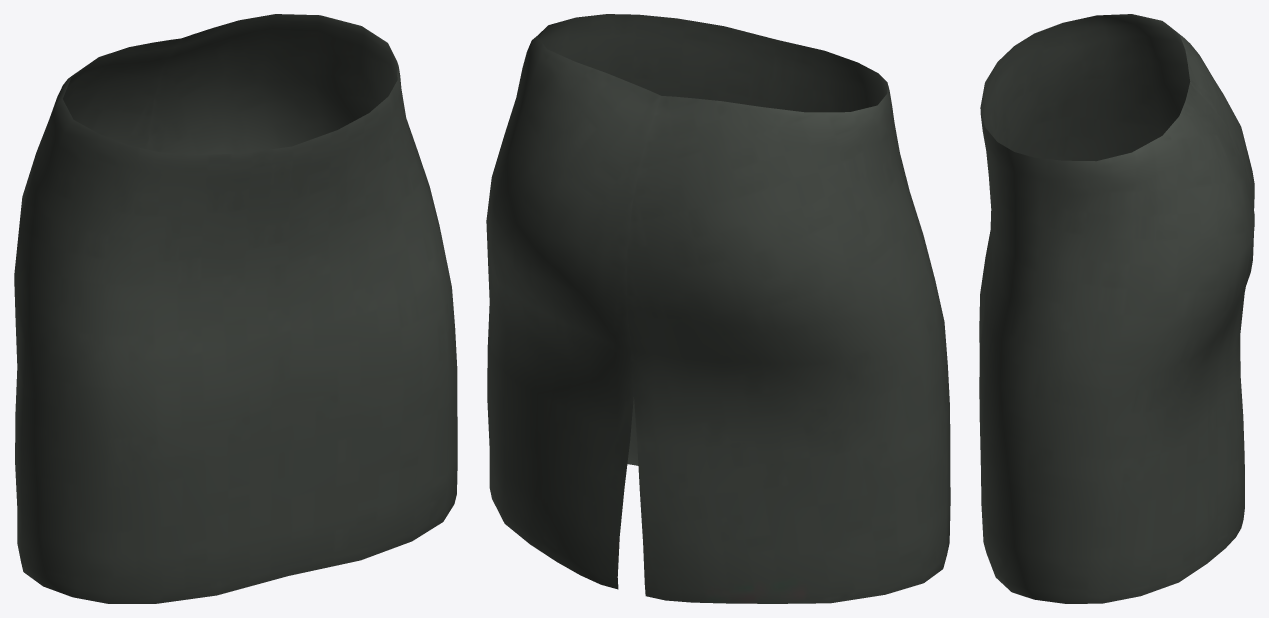
The model's file is skirt.glb.
The picture shows the model from 3 angles, left to right: view 1: azimuth 30°, elevation 25°; view 2: azimuth 150°, elevation 25°; view 3: azimuth 270°, elevation 25°; orthographic projection. The views are drawn at different scales.
Parts seen in each view (by area): view 1: skirt; view 2: skirt; view 3: skirt.
Boxes of the visible parts, x1,y1,x2,y2 form: skirt: (14,14,457,603); skirt: (486,14,950,603); skirt: (979,14,1254,603).
Size of the model in its own units: 0.3928 by 0.4226 by 0.2373.
1 material, 1 textured.
